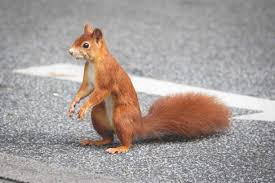squirrel: (65, 22, 231, 155)
